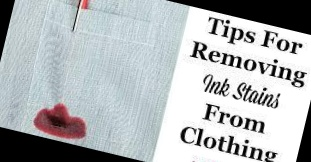ink: (32, 102, 91, 141)
